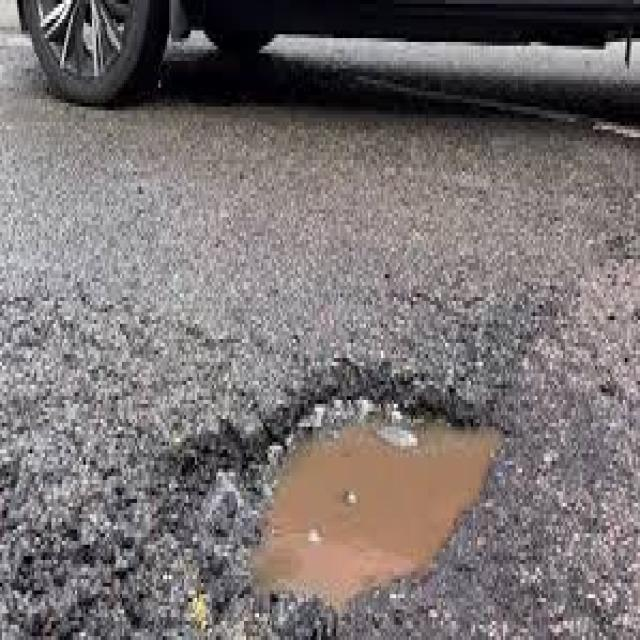Pothole: (250, 423, 505, 610)
